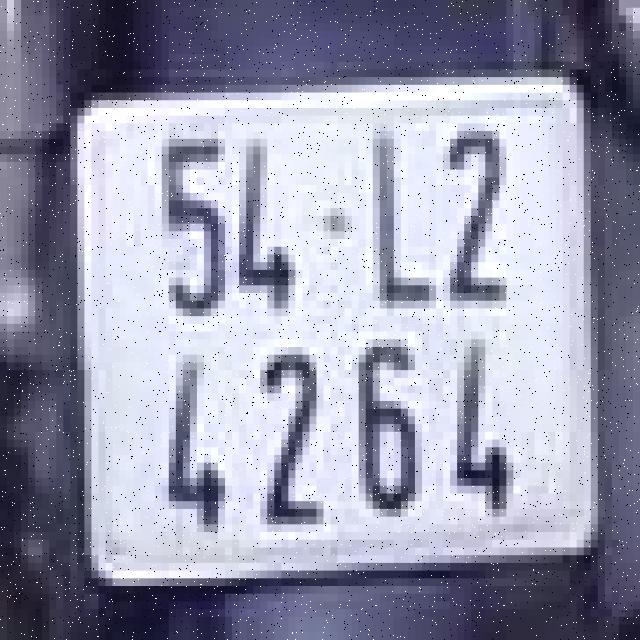2: (418, 100, 496, 301), (243, 324, 313, 516)
4: (225, 124, 295, 308), (447, 339, 517, 517), (155, 320, 218, 505)
5: (158, 127, 222, 297)
6: (341, 308, 419, 509)
L: (345, 104, 422, 305)
